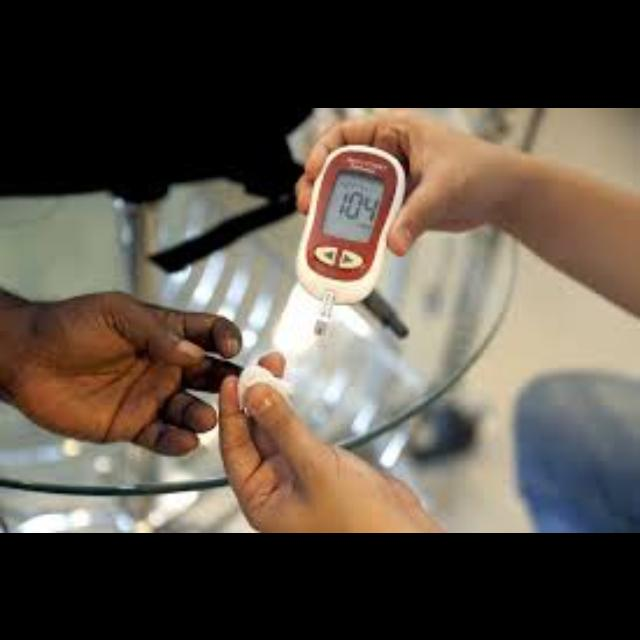Glucose-Meter: (296, 147, 404, 334)
